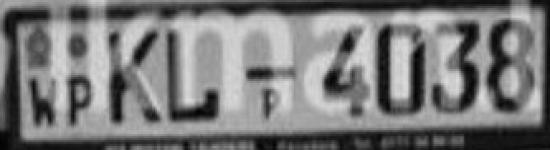-: (241, 55, 299, 89)
0: (373, 16, 431, 120)
3: (429, 17, 483, 116)
4: (312, 19, 376, 122)
8: (482, 13, 539, 118)
K: (103, 22, 163, 128)
L: (162, 20, 226, 130)
P: (64, 70, 96, 132)
W: (27, 70, 65, 134)
